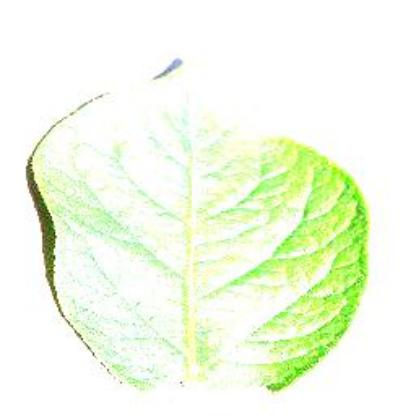Healthy-plant: (29, 55, 367, 410)
